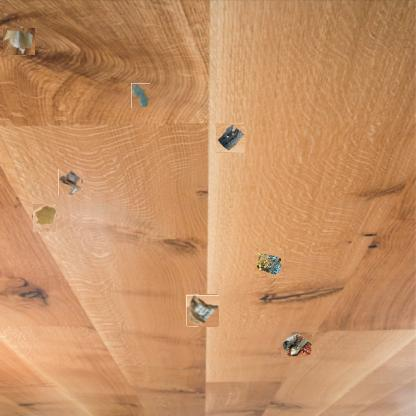dirty: (187, 295, 218, 326), (4, 27, 34, 57), (215, 124, 245, 152), (280, 331, 312, 357), (255, 249, 283, 277), (58, 170, 82, 195)
liquid: (31, 205, 58, 231), (131, 83, 150, 108)
